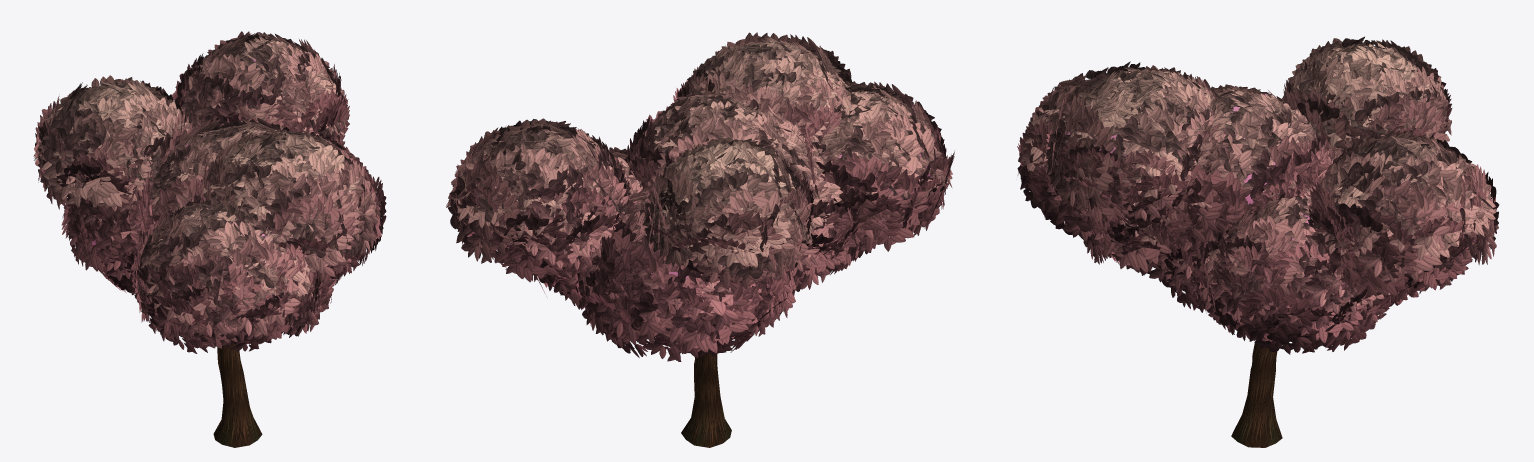
File: tree_bloom_1.gltf
The picture shows the model from 3 angles, left to right: view 1: azimuth 30°, elevation 25°; view 2: azimuth 150°, elevation 25°; view 3: azimuth 270°, elevation 25°; orthographic projection. The views are drawn at different scales.
Parts seen in each view (by area): view 1: LeafCards, Bark; view 2: LeafCards, Bark; view 3: LeafCards, Bark.
Boxes of the visible parts, box(x1,y1,x2,y2) form: LeafCards: box(33, 31, 386, 353); Bark: box(213, 344, 262, 447); LeafCards: box(446, 32, 954, 361); Bark: box(681, 353, 731, 447); LeafCards: box(1017, 36, 1499, 354); Bark: box(1231, 340, 1282, 447).
Bounding box in the file's own units: 7.83 × 7.43 × 9.25.
3 materials, 2 textured.
